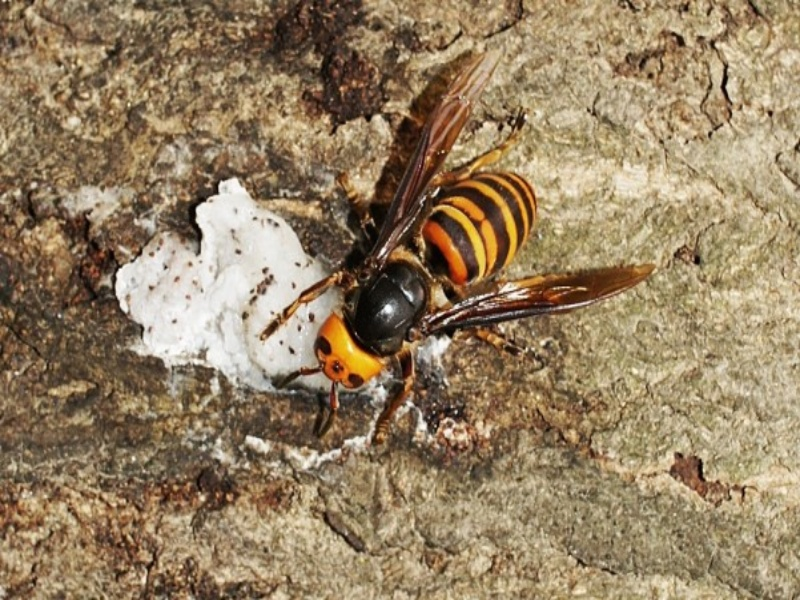asian_giant_hornet: (273, 159, 548, 436)
